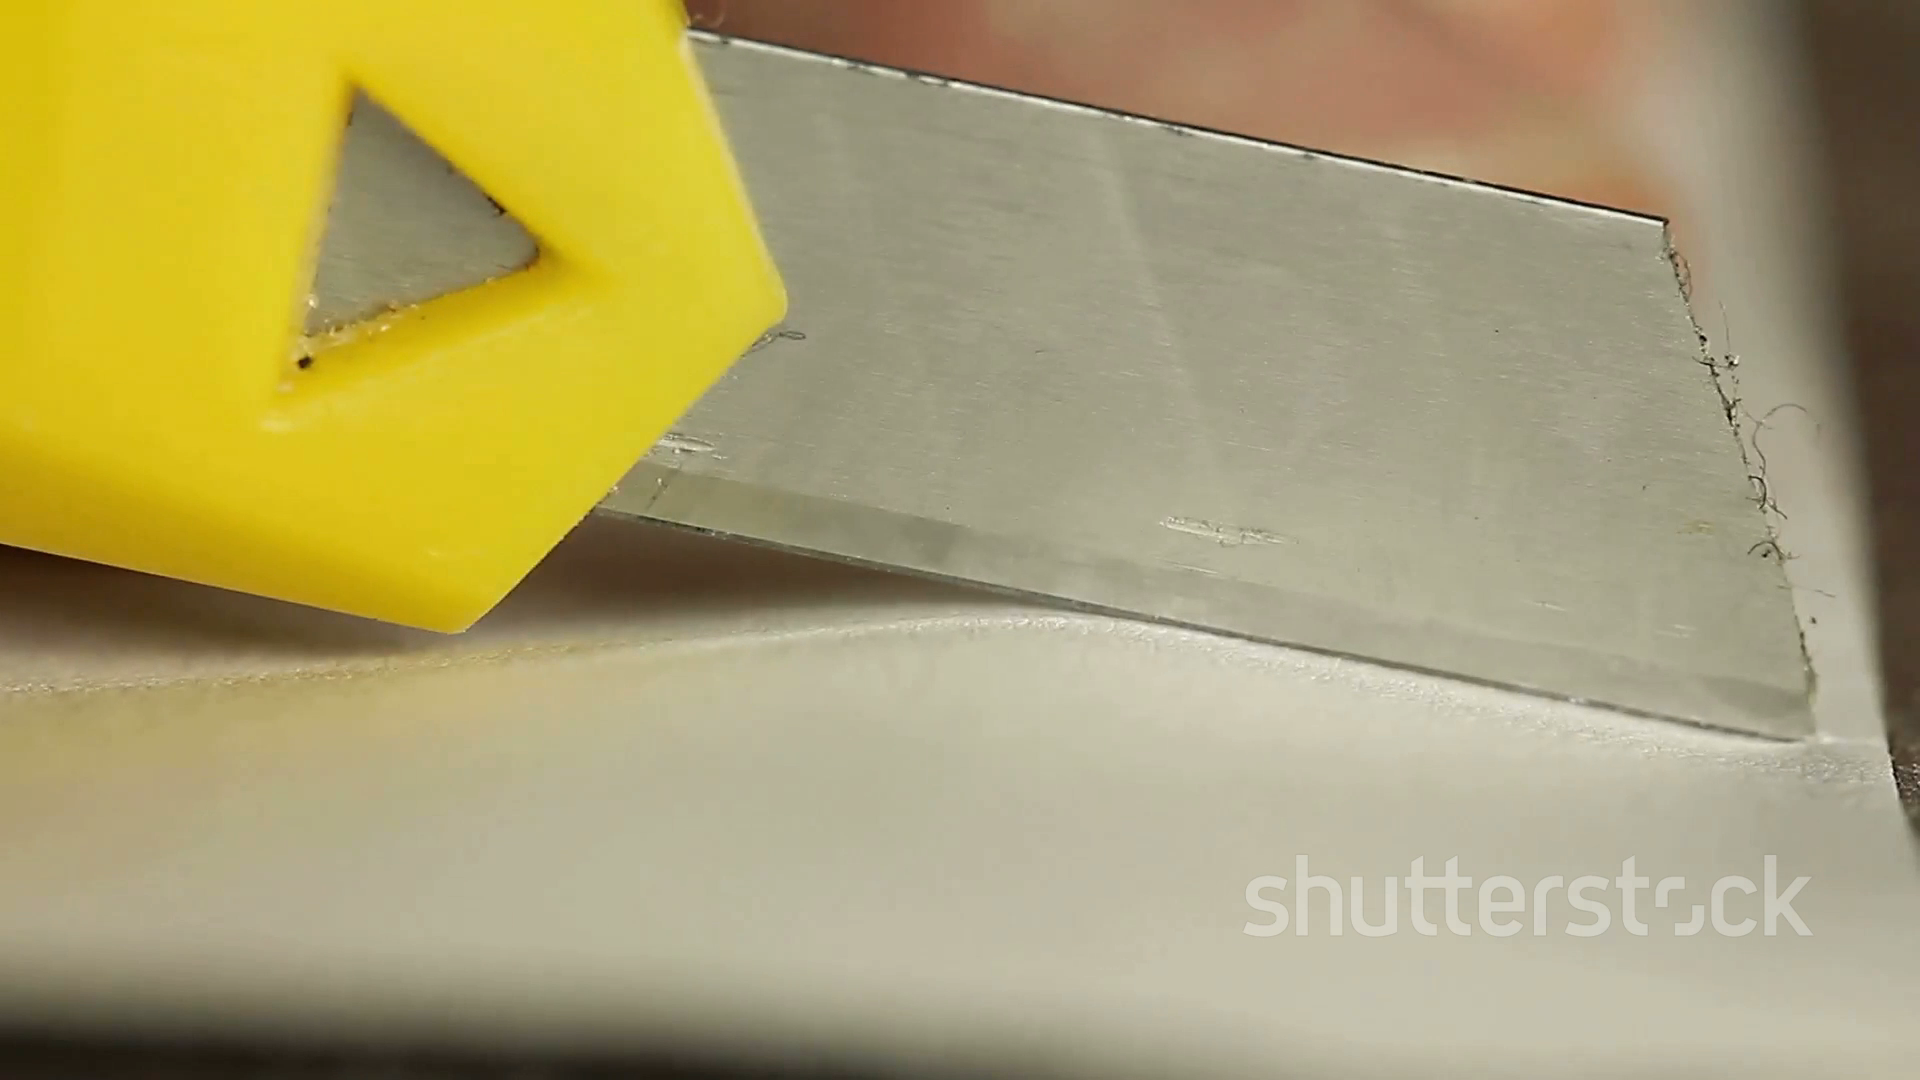cortante: (597, 28, 1820, 744)
